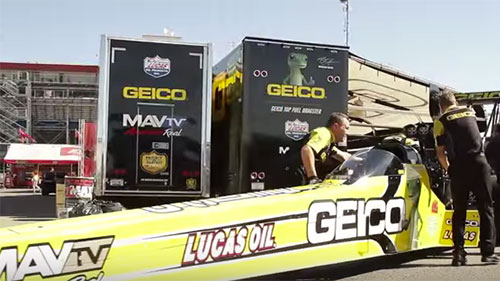geico: (306, 201, 411, 235), (267, 81, 331, 101), (121, 85, 188, 102)
